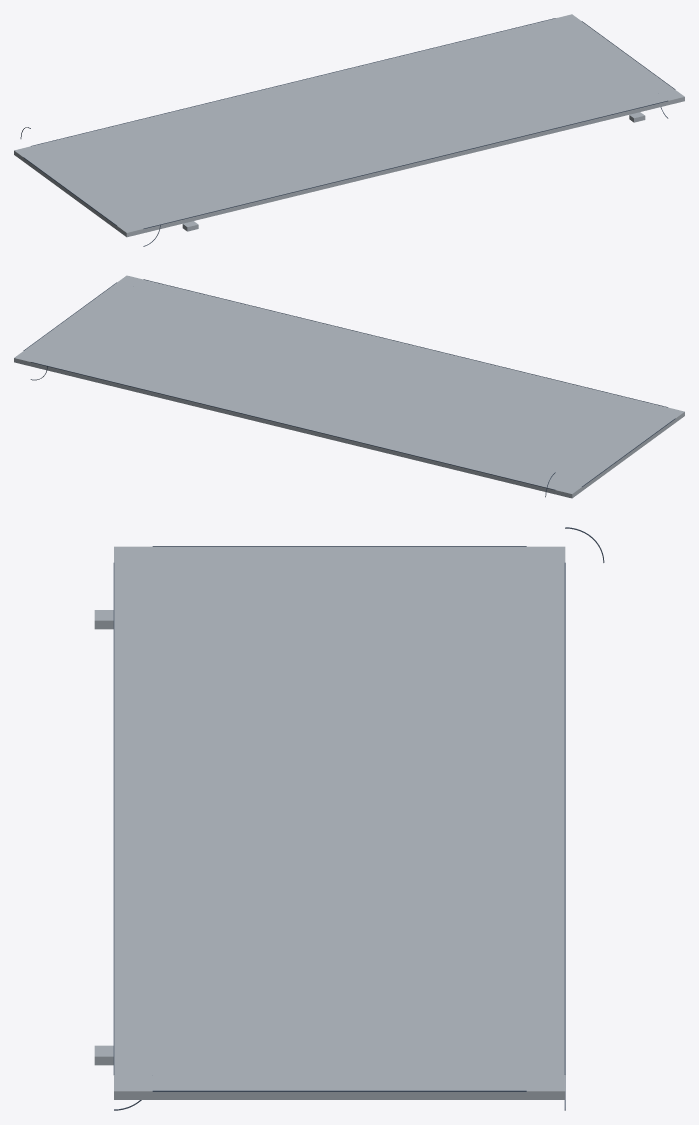
The model's file is Bảng hiệu chữ nổi mica LED viền full màu 400 x 140.obj.
3 renders of one model, top to bottom at view 1: azimuth 30°, elevation 25°; view 2: azimuth 150°, elevation 25°; view 3: azimuth 270°, elevation 25°, orthographic. The views are drawn at different scales.
Visible parts, largest first — view 1: khoi, thanh; view 2: khoi, thanh; view 3: khoi, thanh.
Part boxes in pixels (left/top/right/bottom): khoi: left=14, top=14, right=684, bottom=237; thanh: left=20, top=18, right=675, bottom=246; khoi: left=14, top=275, right=684, bottom=498; thanh: left=23, top=279, right=675, bottom=497; khoi: left=94, top=546, right=565, bottom=1099; thanh: left=113, top=527, right=604, bottom=1110.
Size of the model in its own units: 4 by 0.243 by 1.58.
